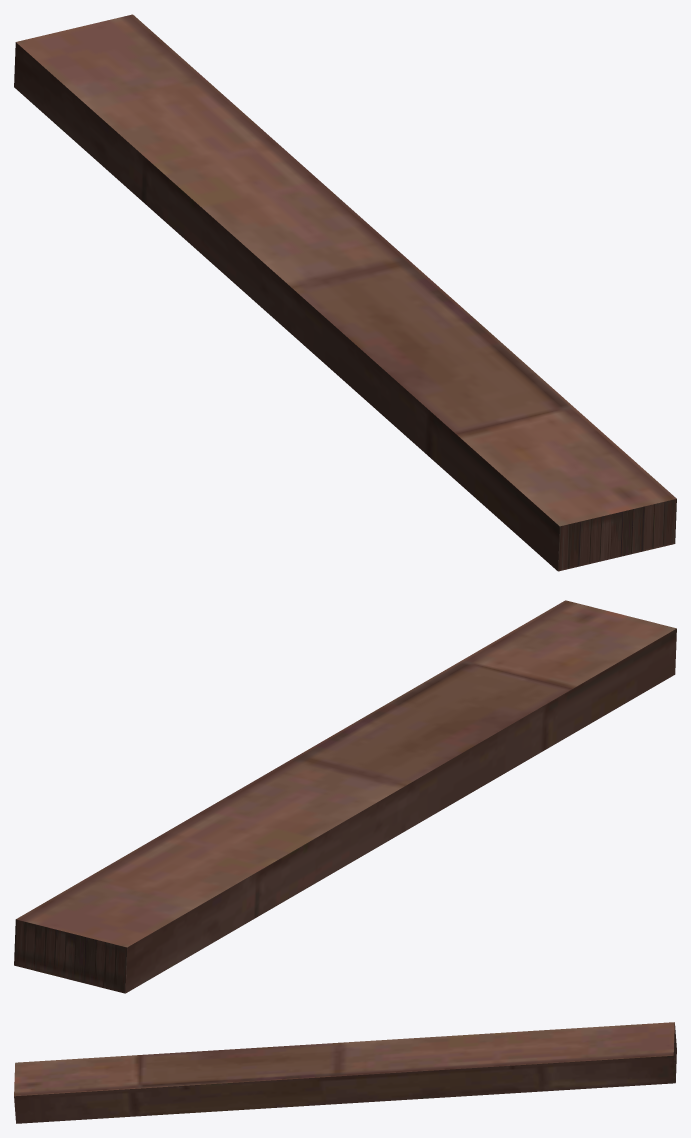
Rendered from woodBlock2 (53).fbx.
3 views of the same model, one above another, from view 1: azimuth 30°, elevation 25°; view 2: azimuth 150°, elevation 25°; view 3: azimuth 270°, elevation 25° (orthographic). The views are drawn at different scales.
Parts seen in each view (by area): view 1: woodBlock2 (53); view 2: woodBlock2 (53); view 3: woodBlock2 (53).
Boxes of the visible parts, x1,y1,x2,y2 form: woodBlock2 (53): [14, 14, 676, 571]; woodBlock2 (53): [14, 600, 676, 993]; woodBlock2 (53): [14, 1022, 676, 1123].
Bounding box in the file's own units: 11.33 × 10.18 × 85.4.
